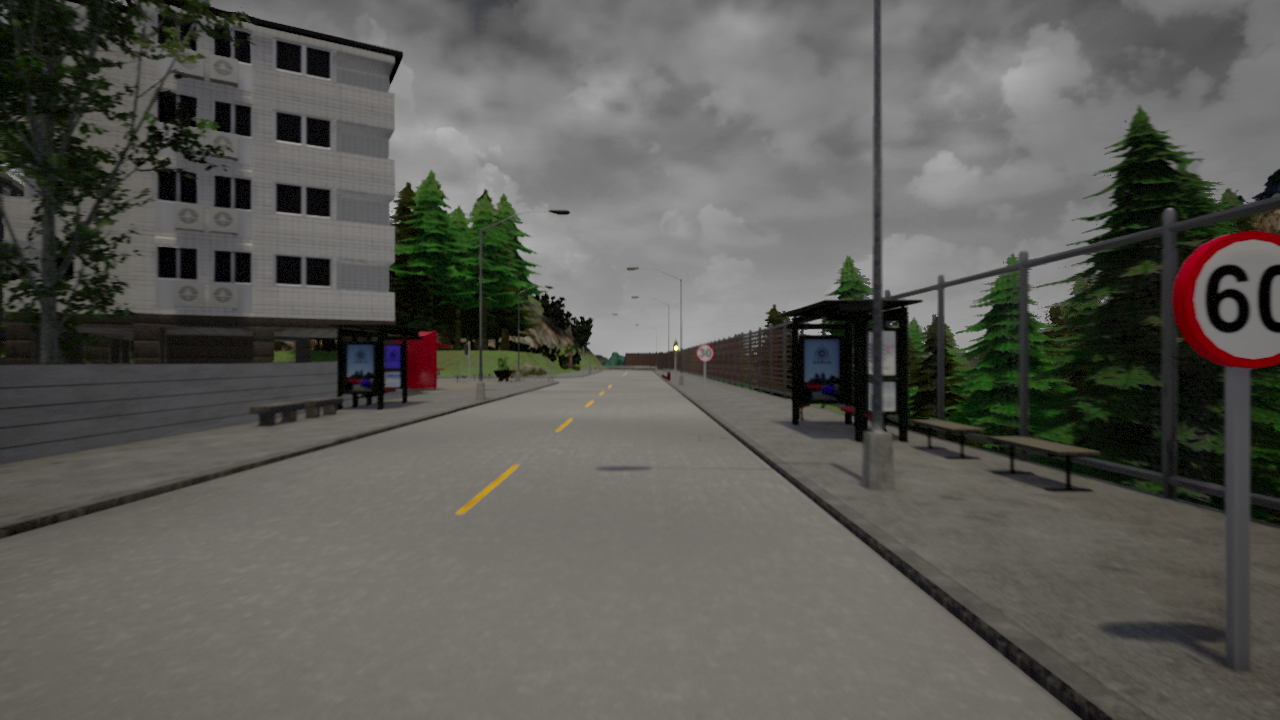yellow: (672, 339, 679, 354)
